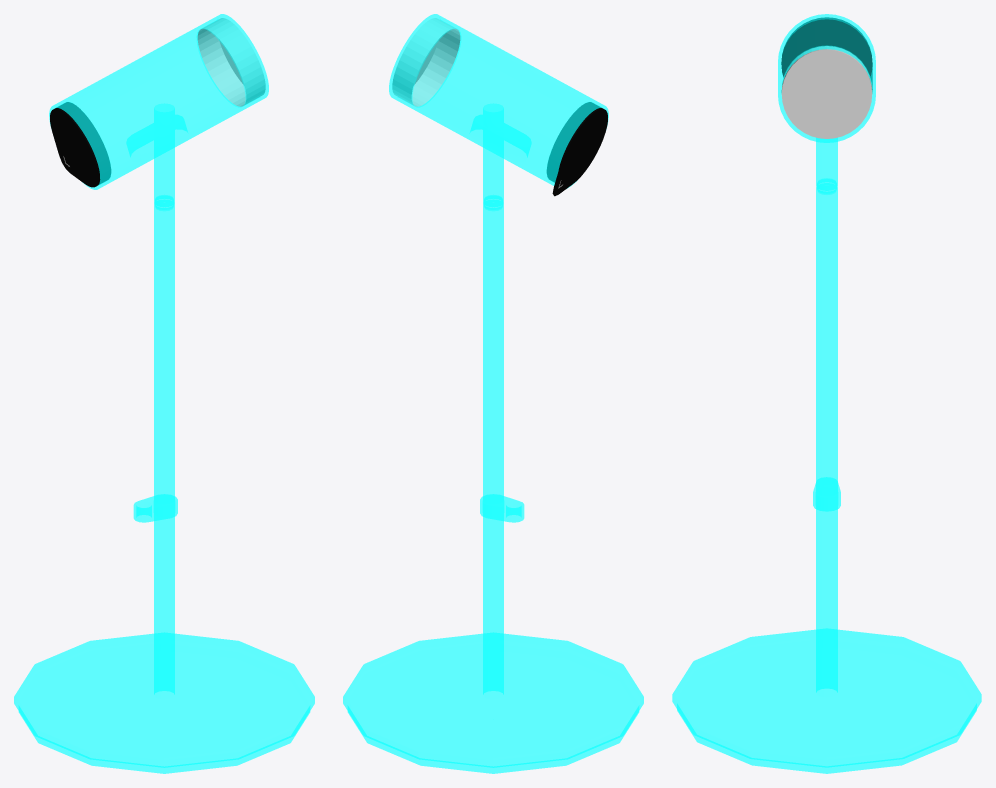
The model's file is oculusSensorv4.fbx.
3 views of the same model, side by side, from view 1: azimuth 30°, elevation 25°; view 2: azimuth 150°, elevation 25°; view 3: azimuth 270°, elevation 25° (orthographic). The views are drawn at different scales.
Parts seen in each view (by area): view 1: senso_body.015; view 2: senso_body.015; view 3: senso_body.015.
Boxes of the visible parts, x1,y1,x2,y2 form: senso_body.015: (14, 14, 314, 773); senso_body.015: (343, 14, 643, 773); senso_body.015: (672, 14, 981, 773).
Size of the model in its own units: 11.98 by 29.81 by 11.98.
Materials: 4 (2 with a texture image).
